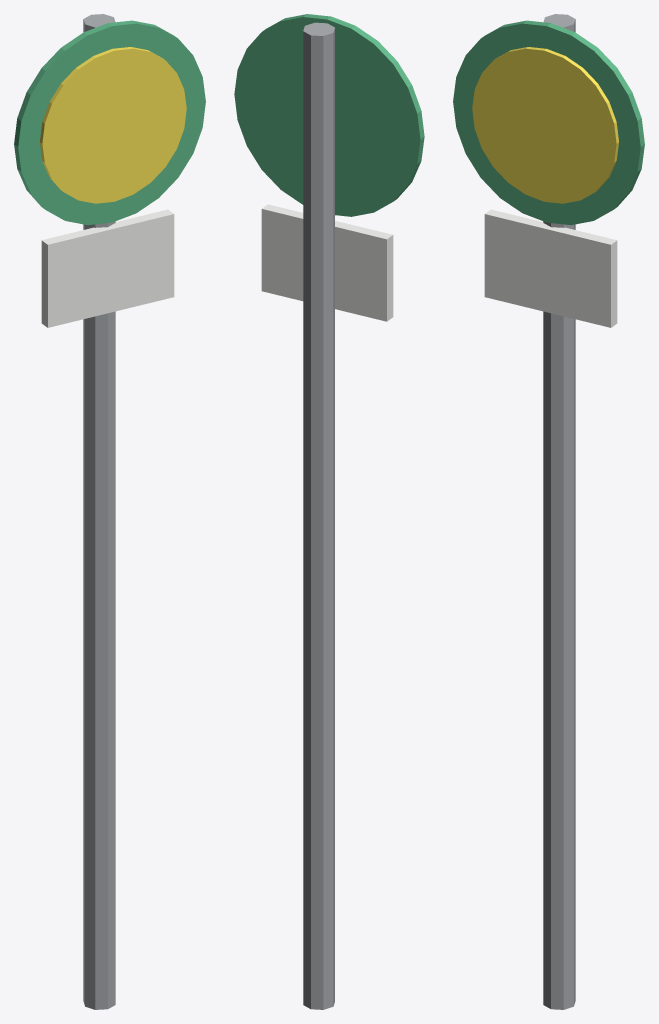
The model's file is sign-busstop.glb.
3 renders of one model, left to right at view 1: azimuth 30°, elevation 25°; view 2: azimuth 150°, elevation 25°; view 3: azimuth 330°, elevation 25°, orthographic.
Parts seen in each view (by area): view 1: sign-busstop; view 2: sign-busstop; view 3: sign-busstop.
Part boxes in pixels (left/top/right/bottom): sign-busstop: left=14, top=14, right=205, bottom=1009; sign-busstop: left=234, top=14, right=424, bottom=1009; sign-busstop: left=453, top=14, right=644, bottom=1009.
Bounding box in the file's own units: 0.52 × 2.61 × 0.112.
